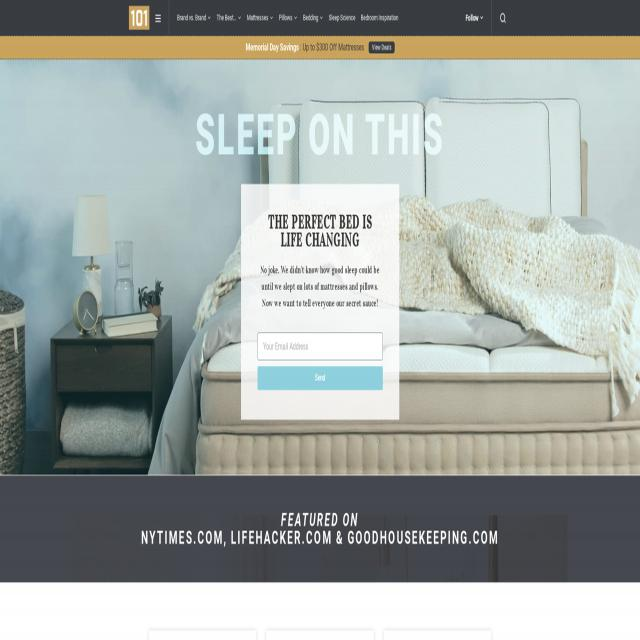button: (257, 366, 383, 390), (491, 0, 511, 36), (129, 6, 149, 30), (155, 8, 161, 28)
field: (257, 332, 383, 360)
